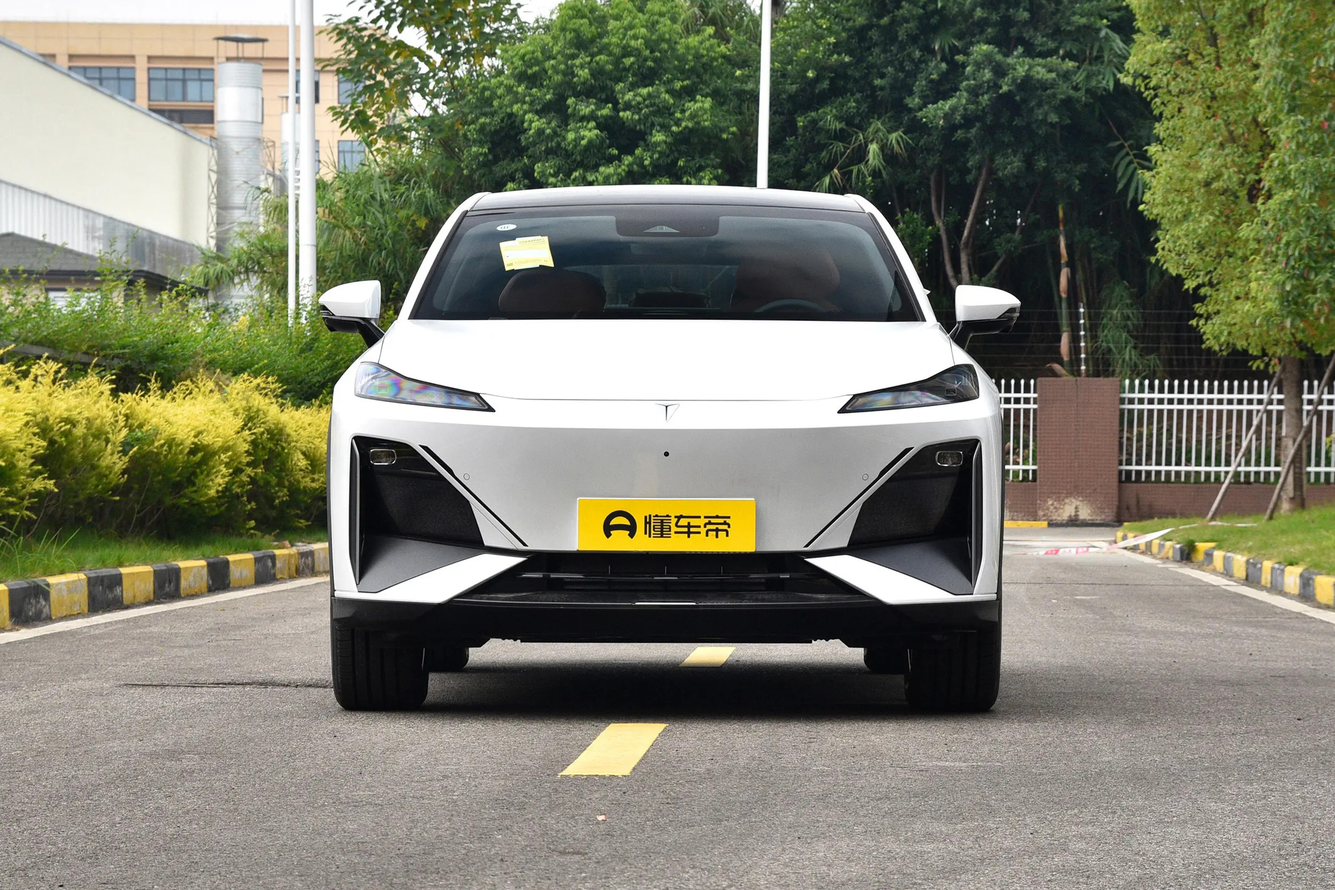Deepal: (654, 403, 679, 423)
